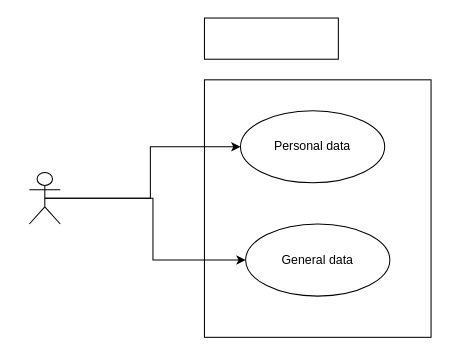
This 449x355 diagram has some shape labels left out. Each missing label, with the centre of its shape:
employee: [44,197]
employee reviews: [270,38]
